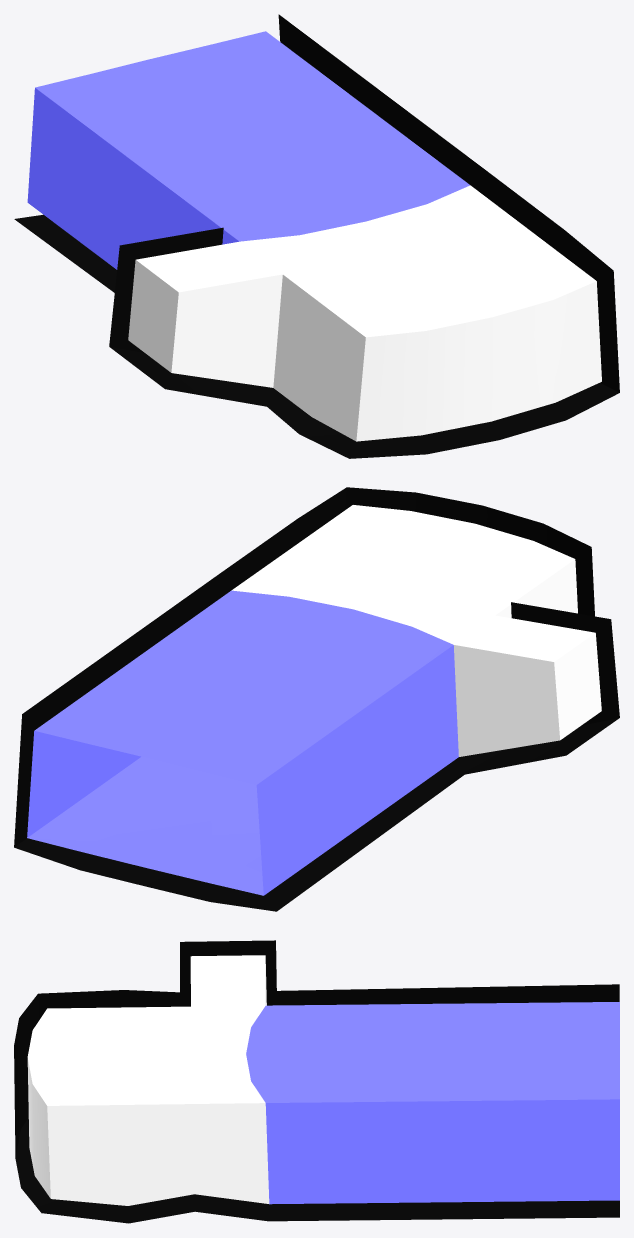
The model's file is lefthand.glb.
The picture shows the model from 3 angles, top to bottom: view 1: azimuth 30°, elevation 25°; view 2: azimuth 150°, elevation 25°; view 3: azimuth 270°, elevation 25°; orthographic projection. The views are drawn at different scales.
Parts seen in each view (by area): view 1: Cube; view 2: Cube; view 3: Cube.
Boxes of the visible parts, box(x1,y1,x2,y2) form: Cube: box(14, 14, 619, 458); Cube: box(14, 487, 619, 911); Cube: box(14, 940, 619, 1223).
Size of the model in its own units: 0.2646 by 0.1073 by 0.4274.
